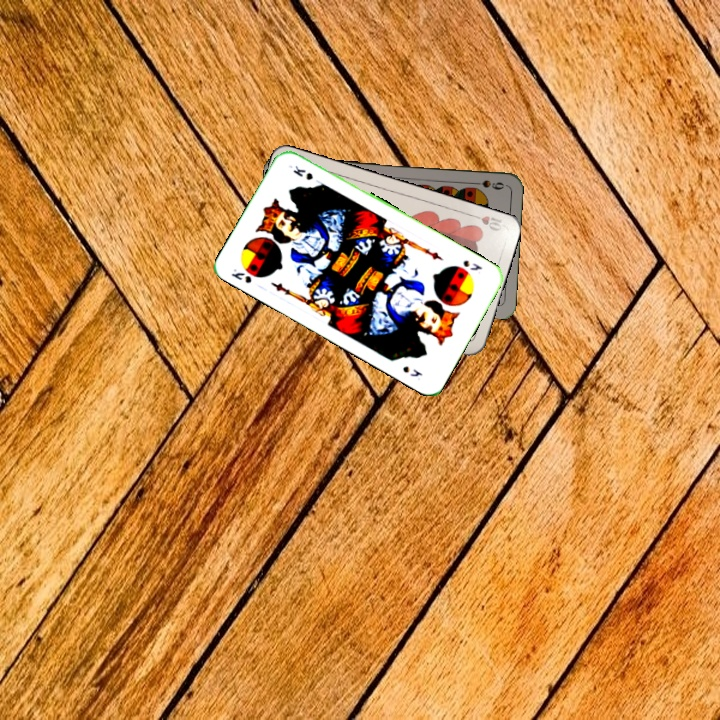H10: (466, 210, 504, 234)
S9: (466, 176, 506, 192)
SK: (227, 264, 254, 286), (459, 256, 485, 276)
